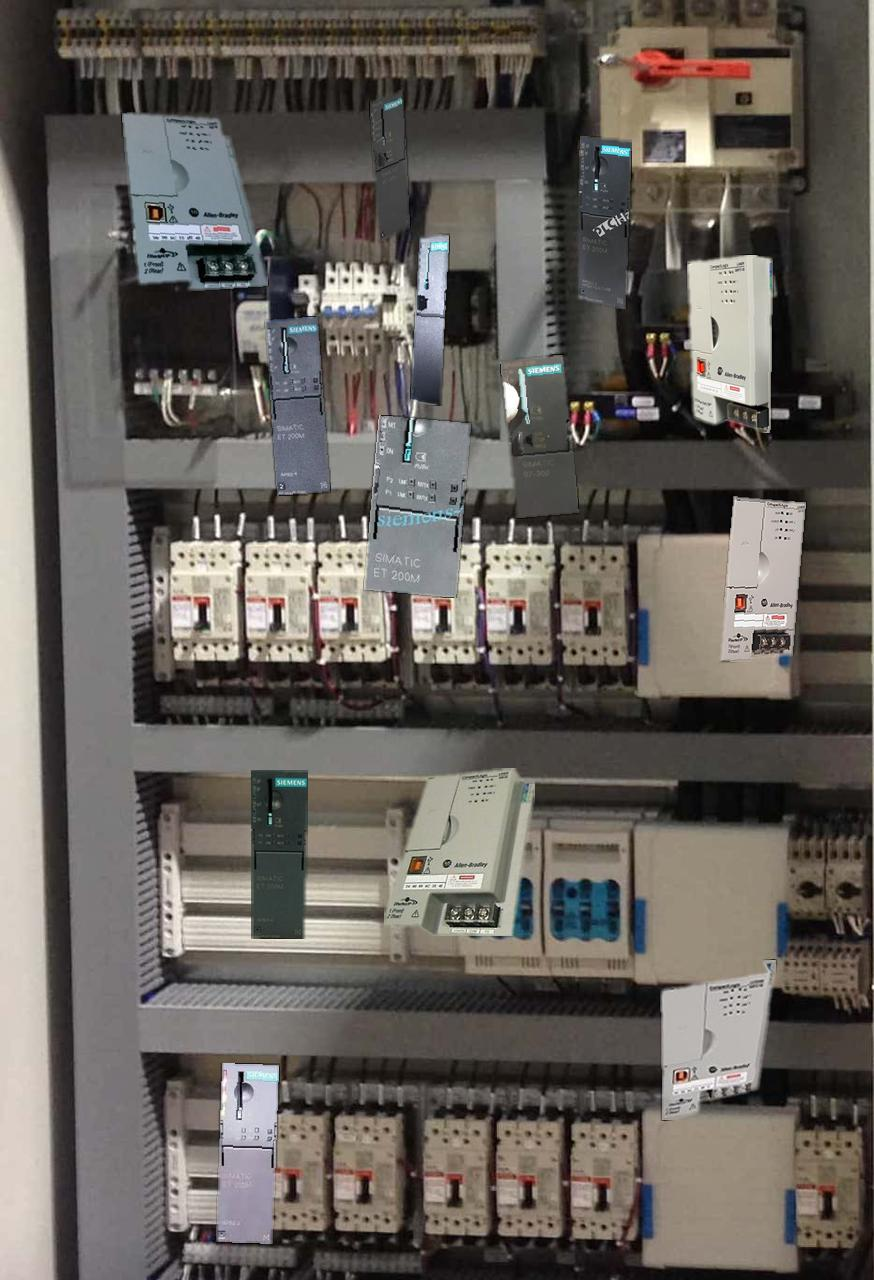AllenBradley: (122, 112, 267, 289), (384, 768, 534, 935), (661, 960, 775, 1119), (687, 255, 771, 432), (721, 497, 805, 660)
Siemens: (500, 355, 578, 517), (411, 235, 448, 405), (370, 90, 409, 242)
